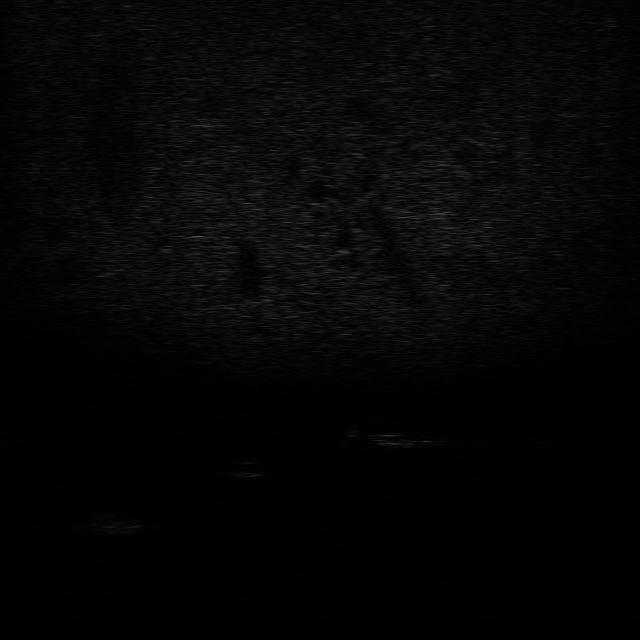ball: (228, 458, 266, 482)
circle cage: (68, 508, 142, 535)
human body: (328, 422, 448, 450)
